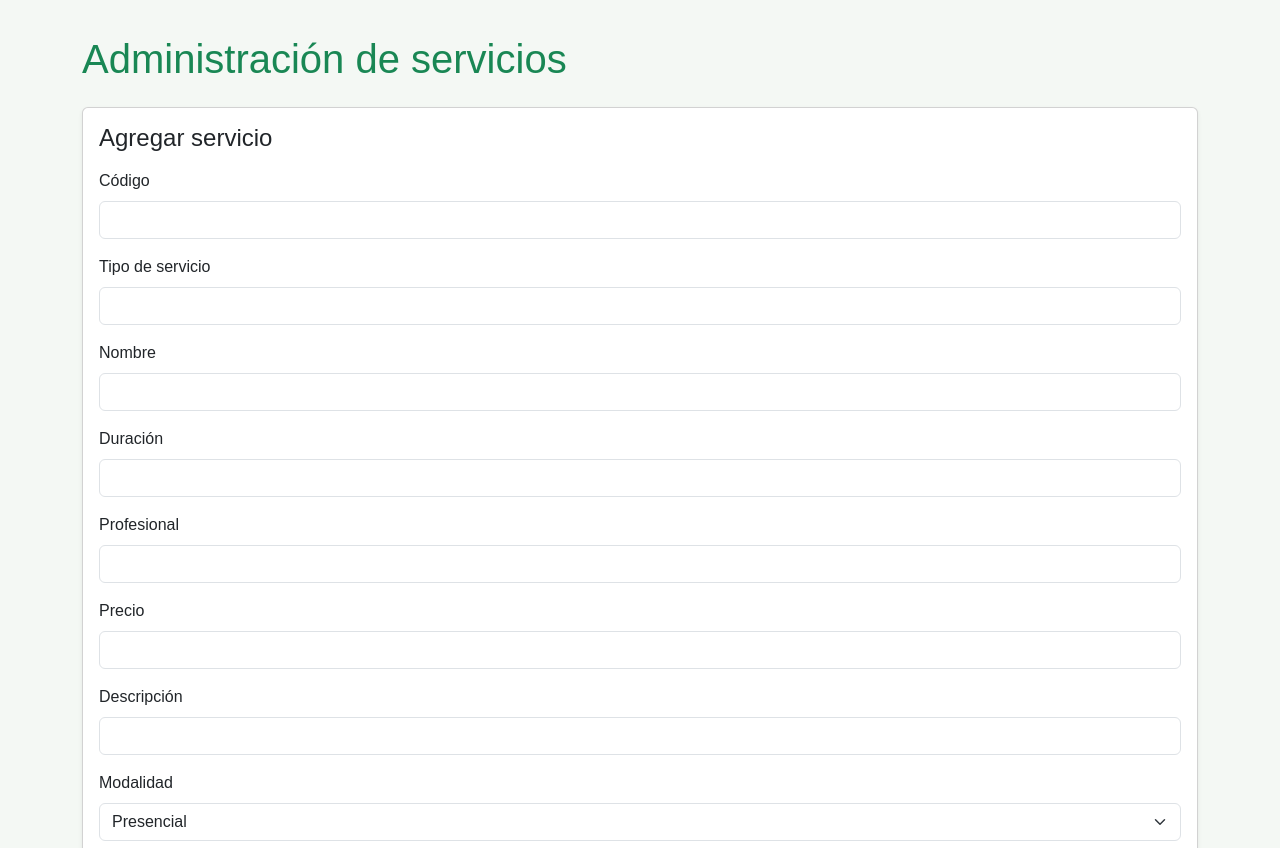
Test: Administración de servicios de NutriVida › rechaza un precio igual a cero
The image size is (1280, 848).
Type "NUT002" into the 1st field named "codigo" at [640, 220], box top-left (99, 201), bottom-right (1181, 239)
Type "Consulta" into the field below "Tipo de servicio" at [640, 306], box top-left (99, 287), bottom-right (1181, 325)
Type "Control nutricional" into the 3rd field named "nombre" at [640, 392], box top-left (99, 373), bottom-right (1181, 411)
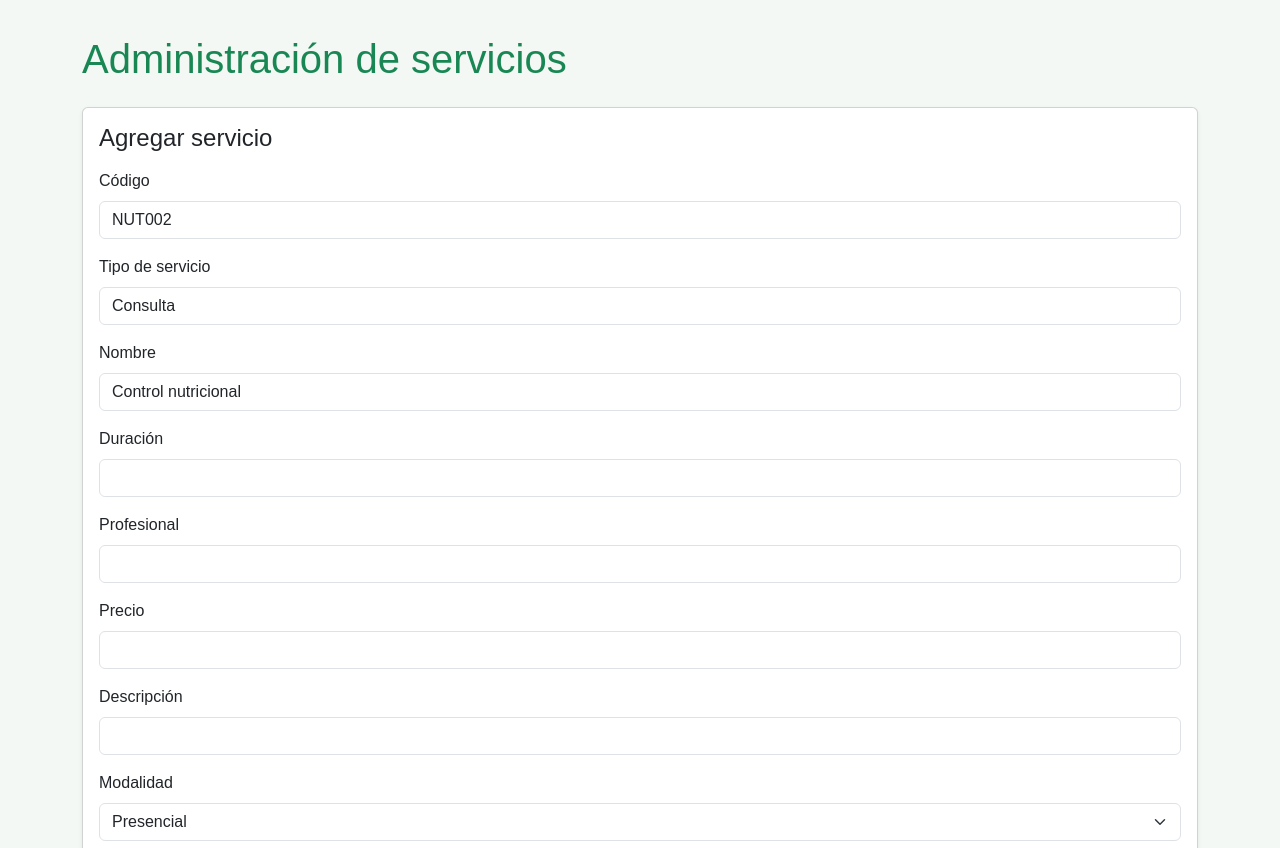
Type "30 minutos" into the field below "Duración" at [640, 478], box top-left (99, 459), bottom-right (1181, 497)
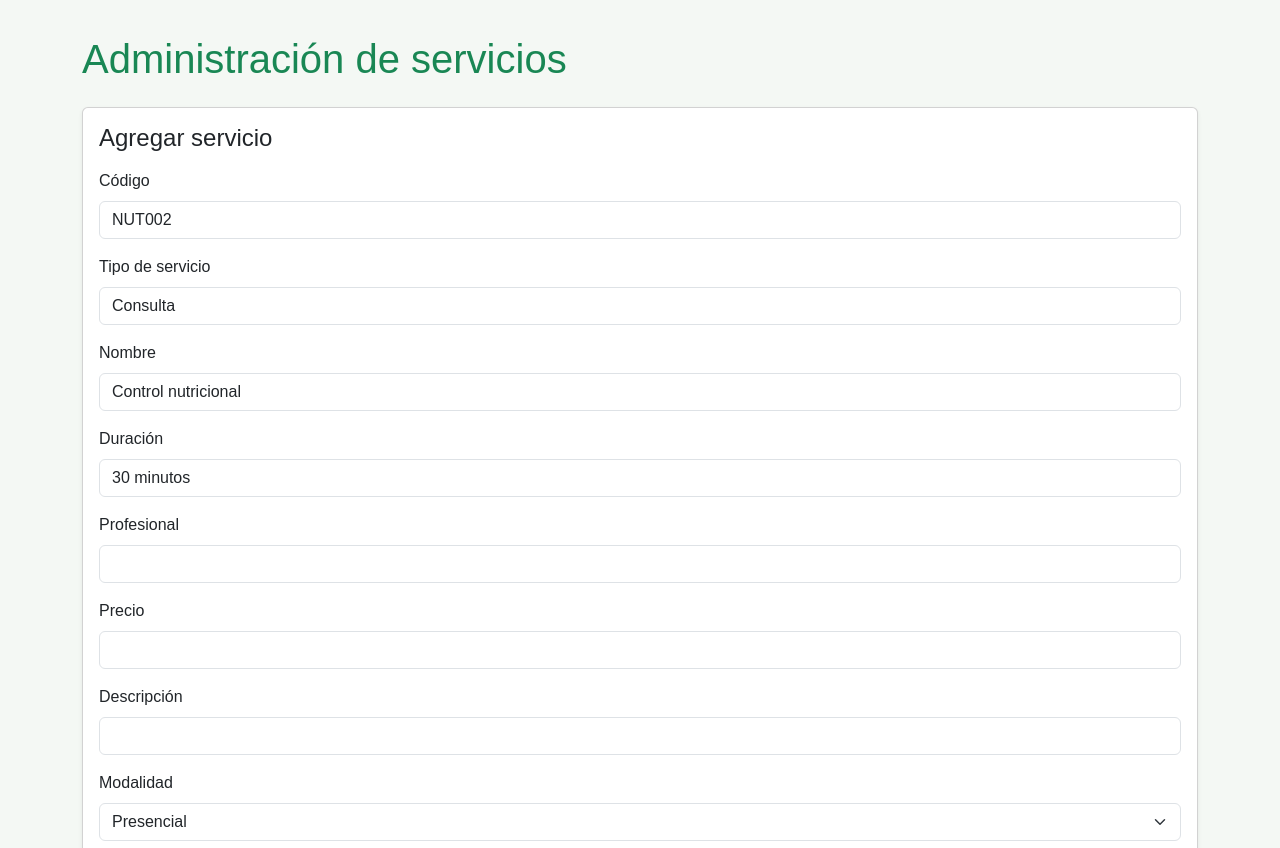
Type "Nutricionista 2" into the field below "Profesional" at [640, 564], box top-left (99, 545), bottom-right (1181, 583)
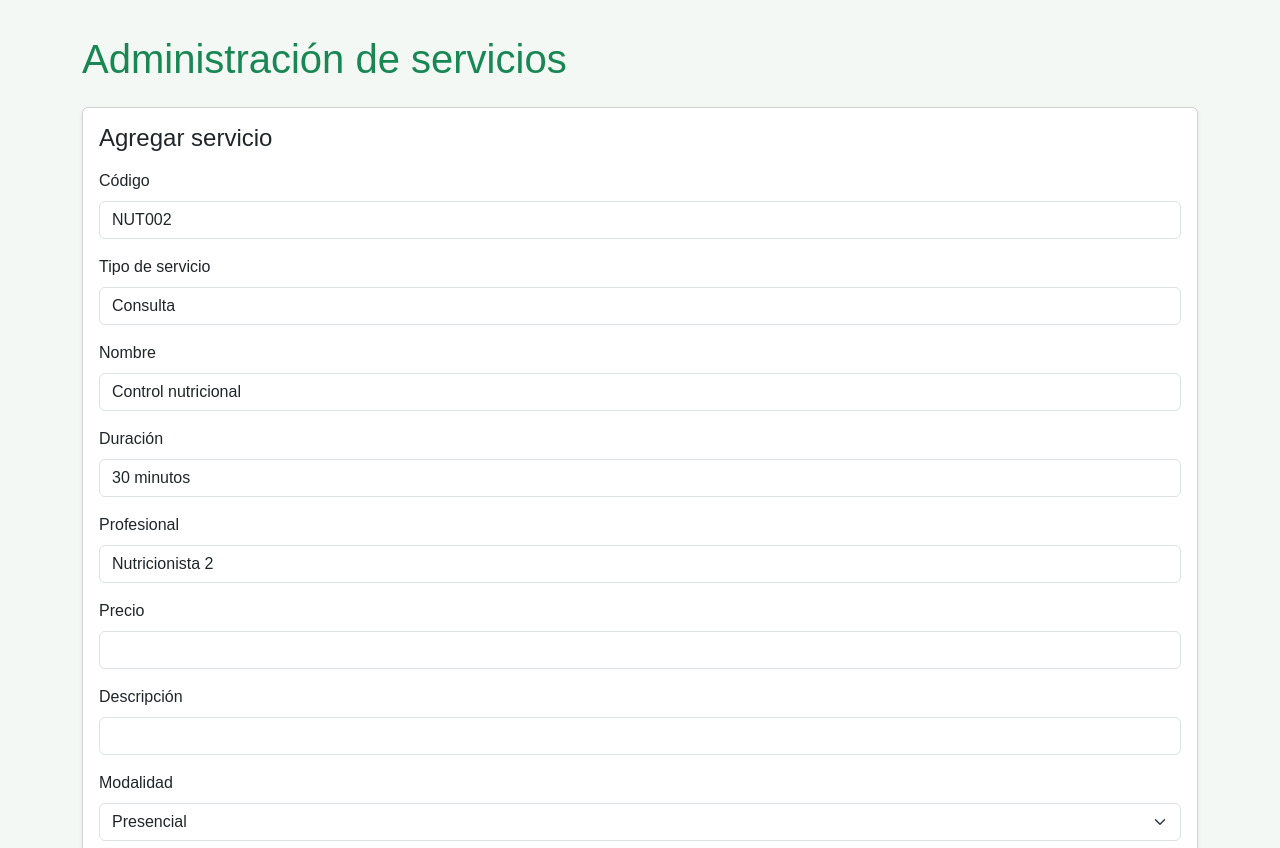
Type "0" into the number field at [640, 650], box top-left (99, 631), bottom-right (1181, 669)
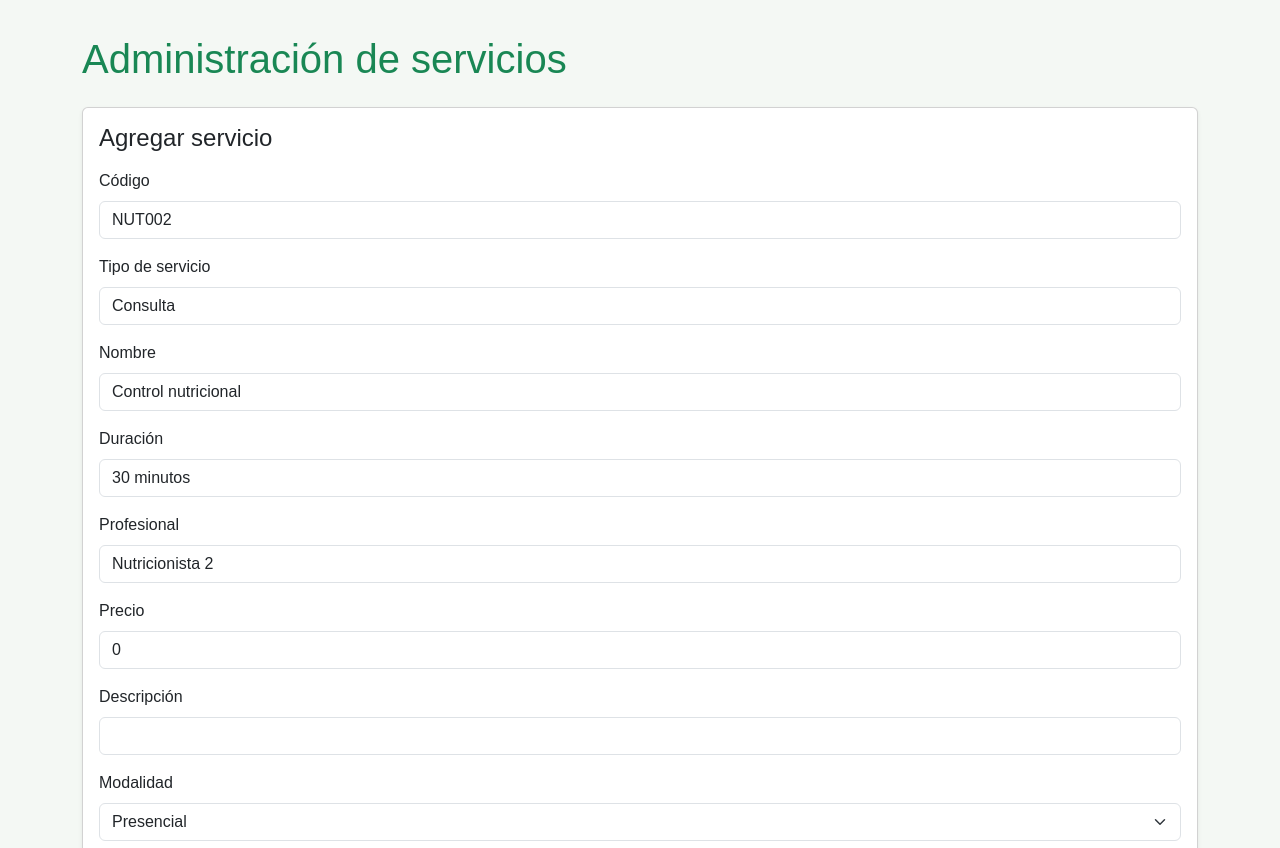
Type "Control de alimentación" into the field below "Descripción" at [640, 736], box top-left (99, 717), bottom-right (1181, 755)
(page scrolled)
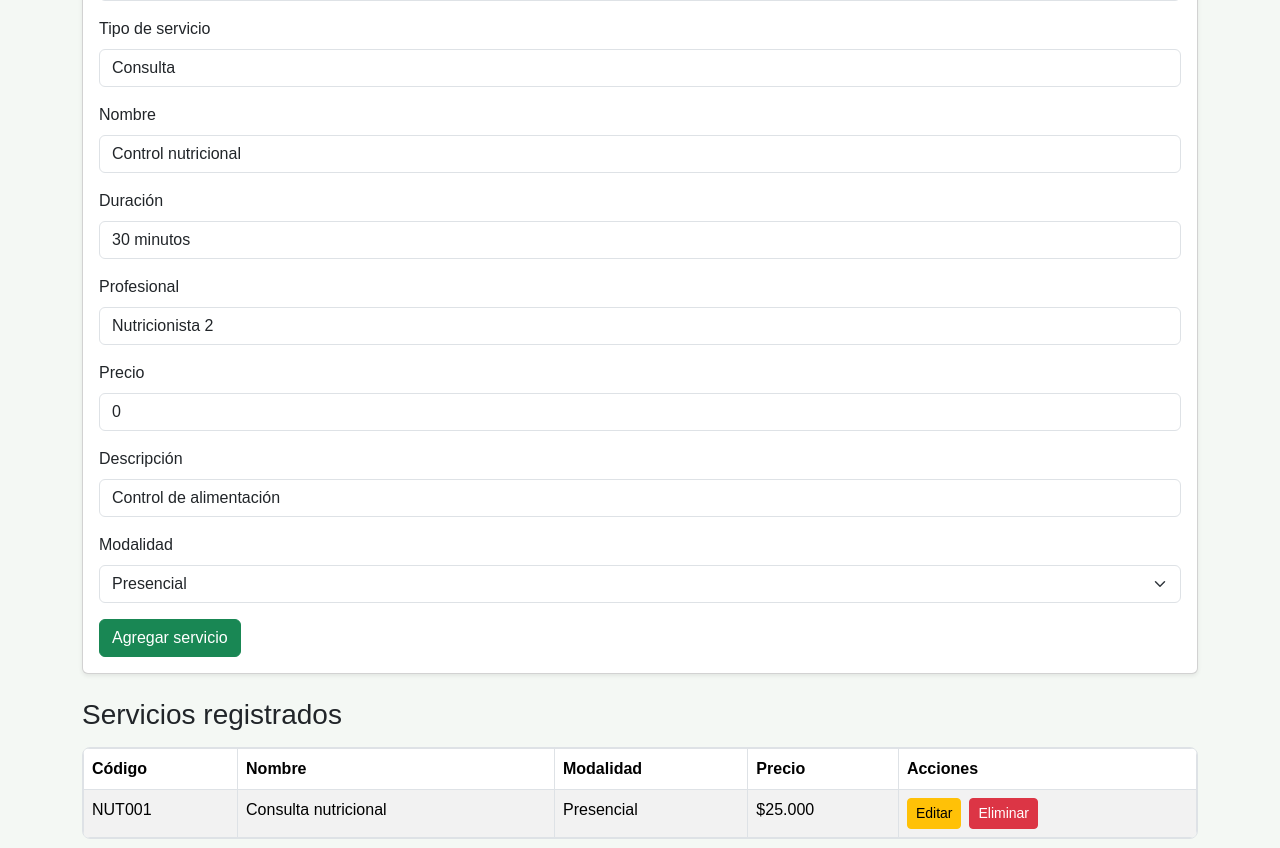
Click the button "Agregar servicio" at [170, 638], box top-left (99, 619), bottom-right (241, 657)
(page scrolled)
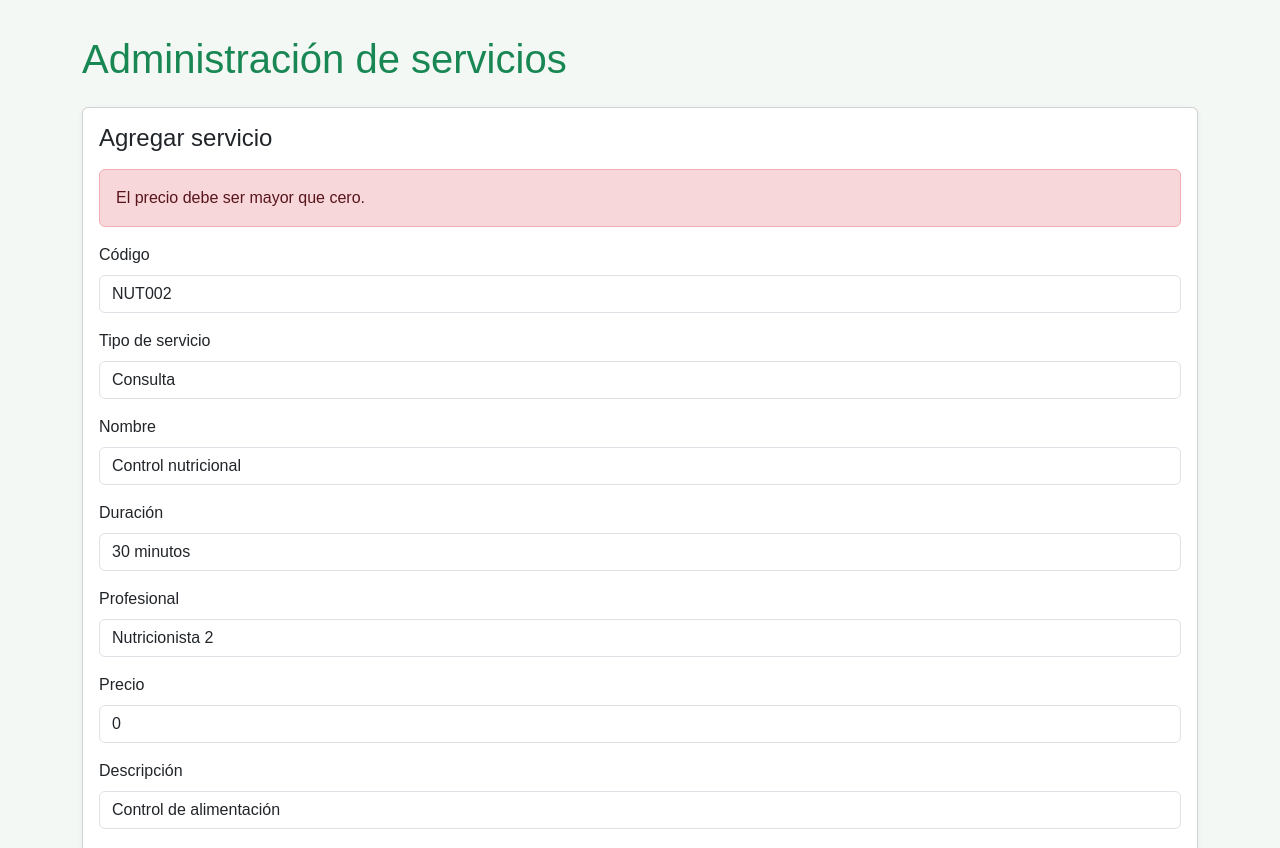
Expected: the text "El precio debe ser mayor que cero." is shown, top-left (99, 169), bottom-right (1181, 227)
